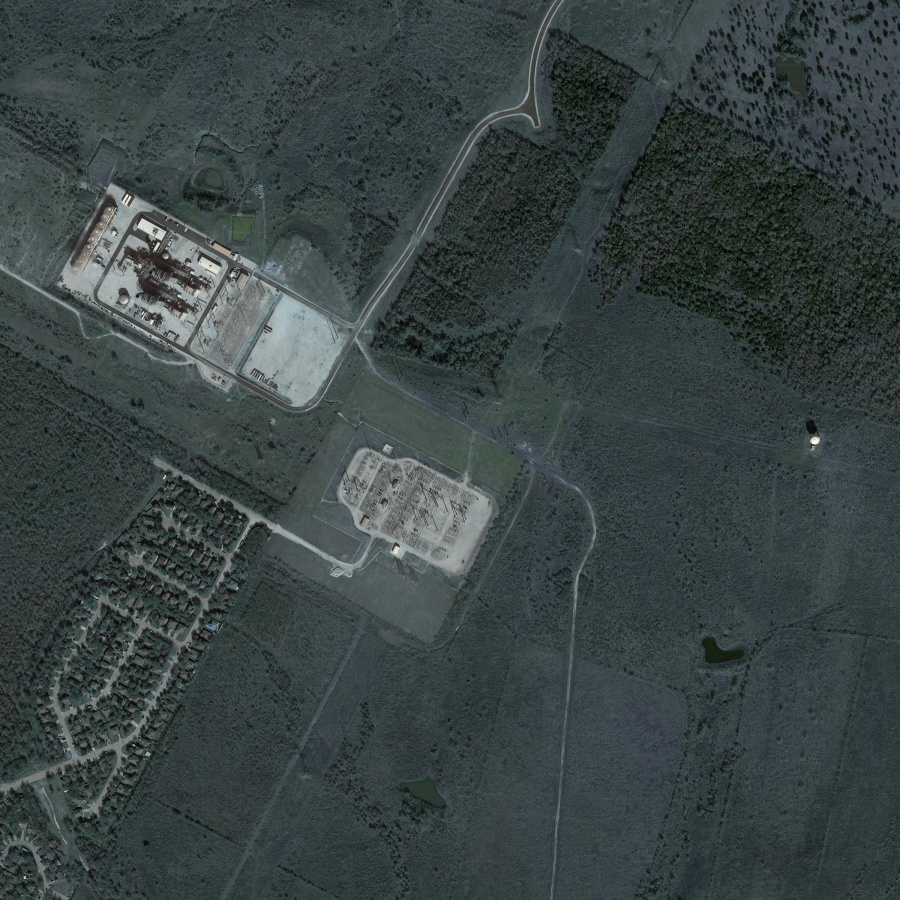PowerPlant: (61, 186, 271, 376), (335, 432, 482, 568)
